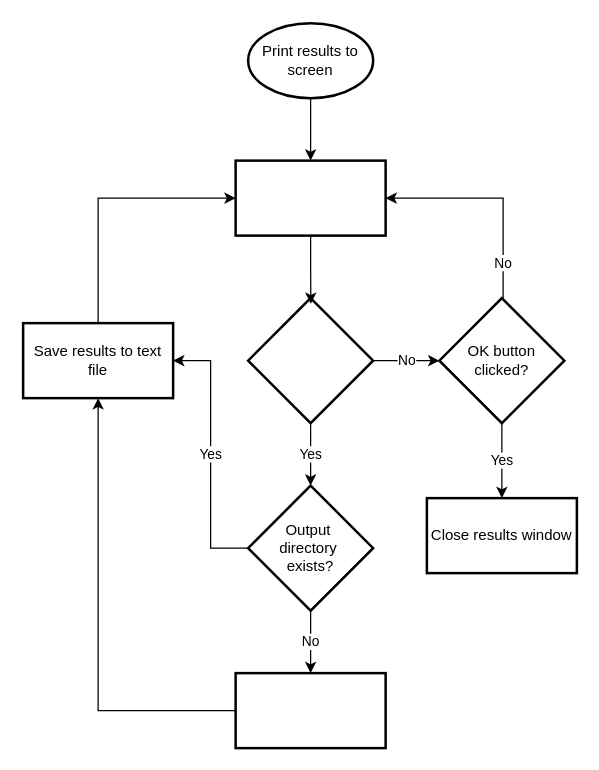
Some shapes in this 599 by 770 pixel diagram are drawn without their labels. Each missing label, with the box of its shape:
Create output directory: (234, 671, 386, 749)
Input loop start: (234, 159, 386, 236)
Save button clicked?: (246, 296, 374, 424)
